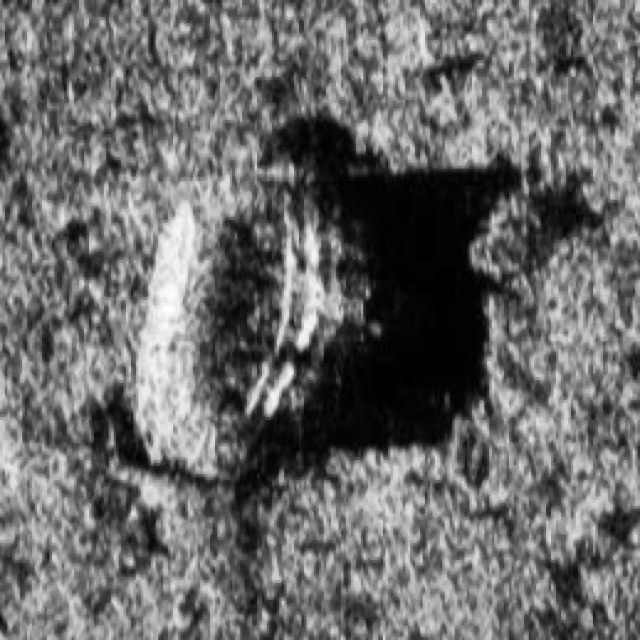Ship: (134, 159, 386, 492)
